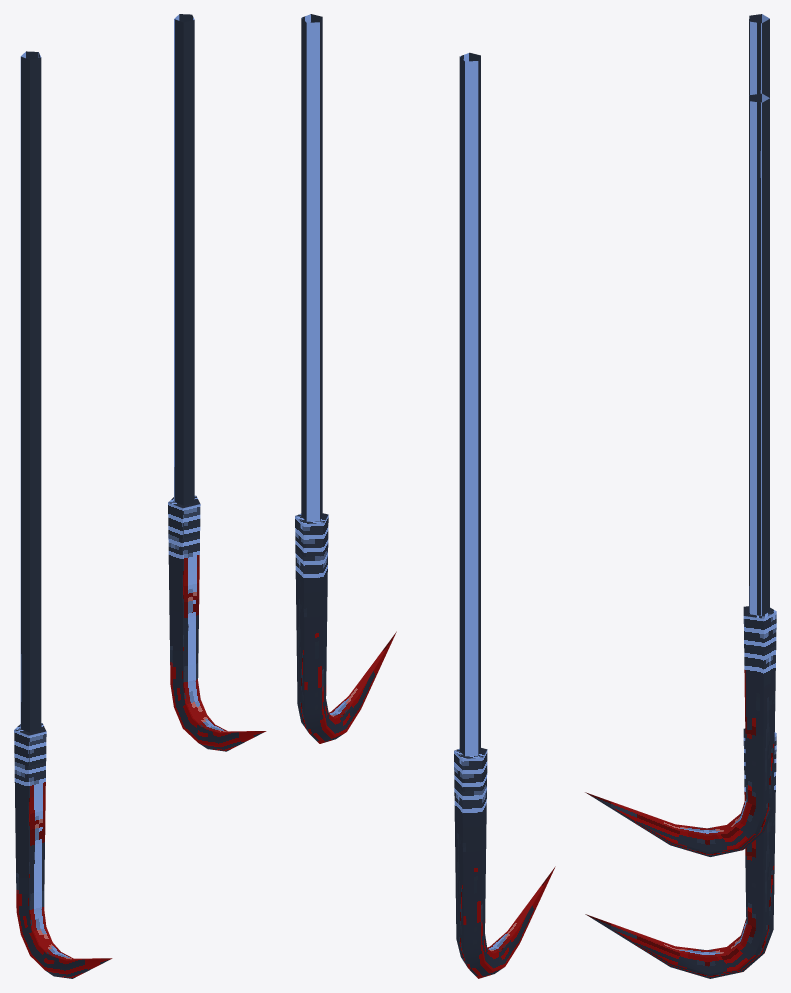
File: bl0106-color.glb
3 views of the same model, side by side, from view 1: azimuth 30°, elevation 25°; view 2: azimuth 150°, elevation 25°; view 3: azimuth 270°, elevation 25° (orthographic). The views are drawn at different scales.
Parts seen in each view (by area): view 1: bl0106_M00_SH_KG; view 2: bl0106_M00_SH_KG; view 3: bl0106_M00_SH_KG.
Boxes of the visible parts, x1,y1,x2,y2 form: bl0106_M00_SH_KG: (14, 14, 266, 978); bl0106_M00_SH_KG: (295, 14, 555, 978); bl0106_M00_SH_KG: (585, 14, 776, 978).
Bounding box in the file's own units: 1.19 × 5.65 × 1.03.
1 material, 1 textured.
